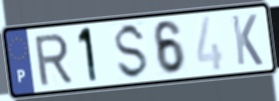1: (74, 25, 100, 86)
4: (195, 15, 226, 73)
6: (151, 18, 188, 78)
K: (229, 12, 265, 67)
R: (32, 31, 75, 89)
S: (114, 21, 151, 82)
